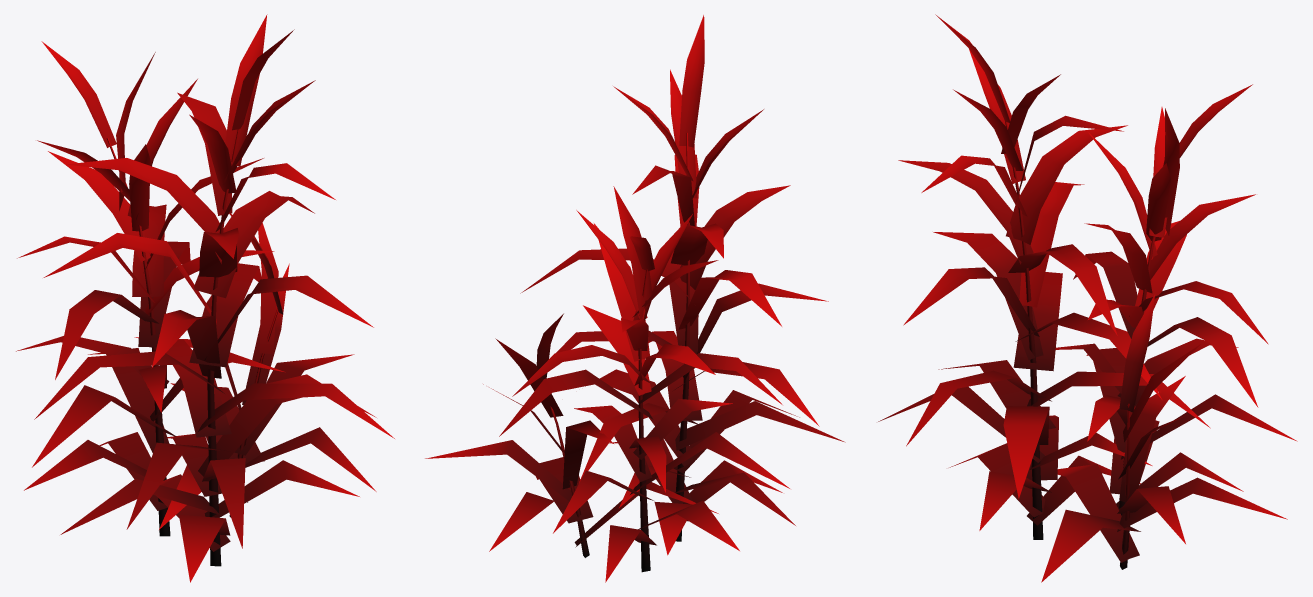
Rendered from G_ArundoDonax_001_S1.FBX.
3 views of the same model, side by side, from view 1: azimuth 30°, elevation 25°; view 2: azimuth 150°, elevation 25°; view 3: azimuth 270°, elevation 25° (orthographic). The views are drawn at different scales.
Parts seen in each view (by area): view 1: S_M_plant_ArundoDonax001_1x1x3_LOD0; view 2: S_M_plant_ArundoDonax001_1x1x3_LOD0; view 3: S_M_plant_ArundoDonax001_1x1x3_LOD0.
Boxes of the visible parts, x1,y1,x2,y2 form: S_M_plant_ArundoDonax001_1x1x3_LOD0: (16,14,394,582); S_M_plant_ArundoDonax001_1x1x3_LOD0: (425,15,845,582); S_M_plant_ArundoDonax001_1x1x3_LOD0: (878,14,1297,582).
Bounding box in the file's own units: 179 × 249 × 178.
